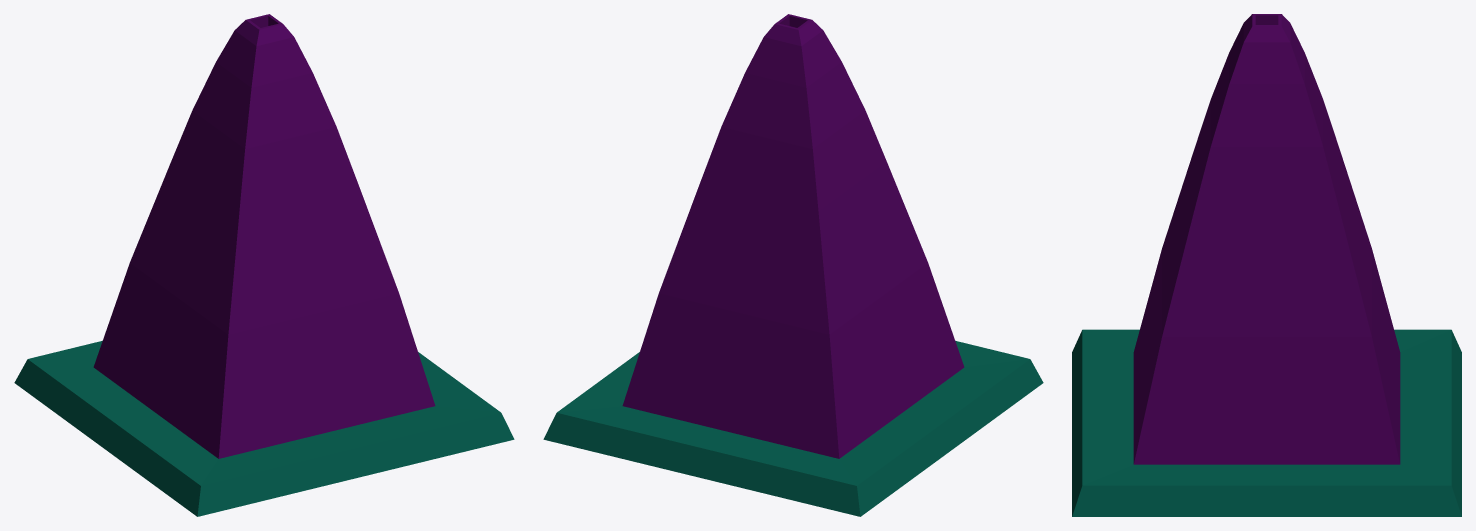
3 renders of one model, left to right at view 1: azimuth 30°, elevation 25°; view 2: azimuth 150°, elevation 25°; view 3: azimuth 270°, elevation 25°, orthographic. The views are drawn at different scales.
Visible parts, largest first — view 1: Cone; view 2: Cone; view 3: Cone.
Part boxes in pixels (box(x1,y1,x2,y2)): Cone: box(14, 14, 514, 516); Cone: box(543, 14, 1043, 516); Cone: box(1072, 14, 1461, 516).
Size of the model in its own units: 0.409 by 0.4797 by 0.409.
